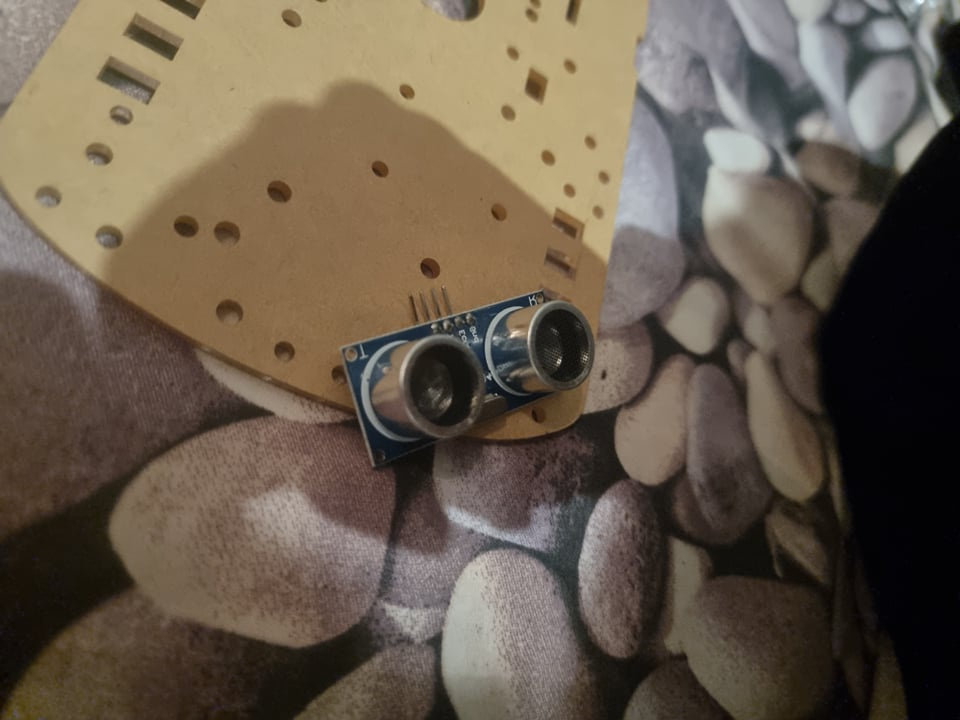SENSOR: (338, 290, 600, 469)
